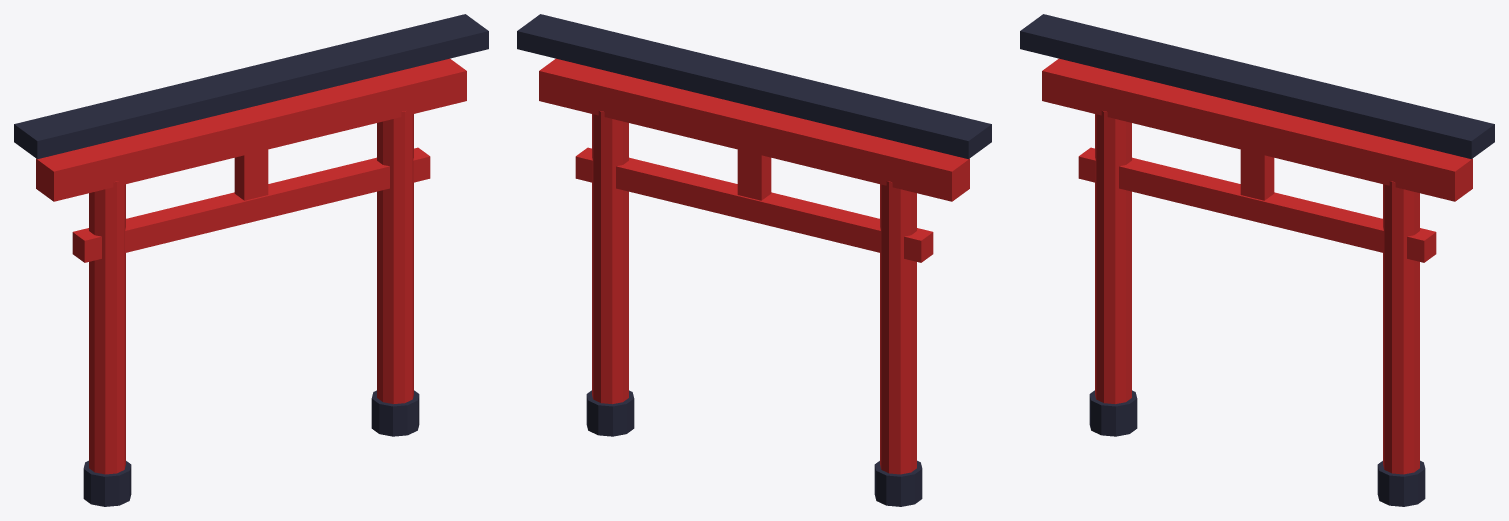
The model's file is torii.glb.
3 renders of one model, left to right at view 1: azimuth 30°, elevation 25°; view 2: azimuth 150°, elevation 25°; view 3: azimuth 330°, elevation 25°, orthographic.
Visible parts, largest first — view 1: torii; view 2: torii; view 3: torii.
Part boxes in pixels (left/top/right/bottom): torii: left=14, top=14, right=488, bottom=506; torii: left=517, top=14, right=991, bottom=506; torii: left=1020, top=14, right=1494, bottom=506.
Size of the model in its own units: 4.7 by 3.82 by 0.44.
